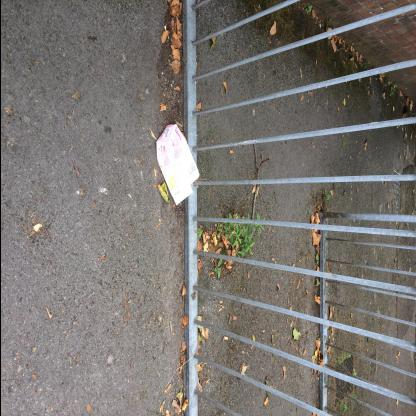karton: (156, 124, 199, 206)
